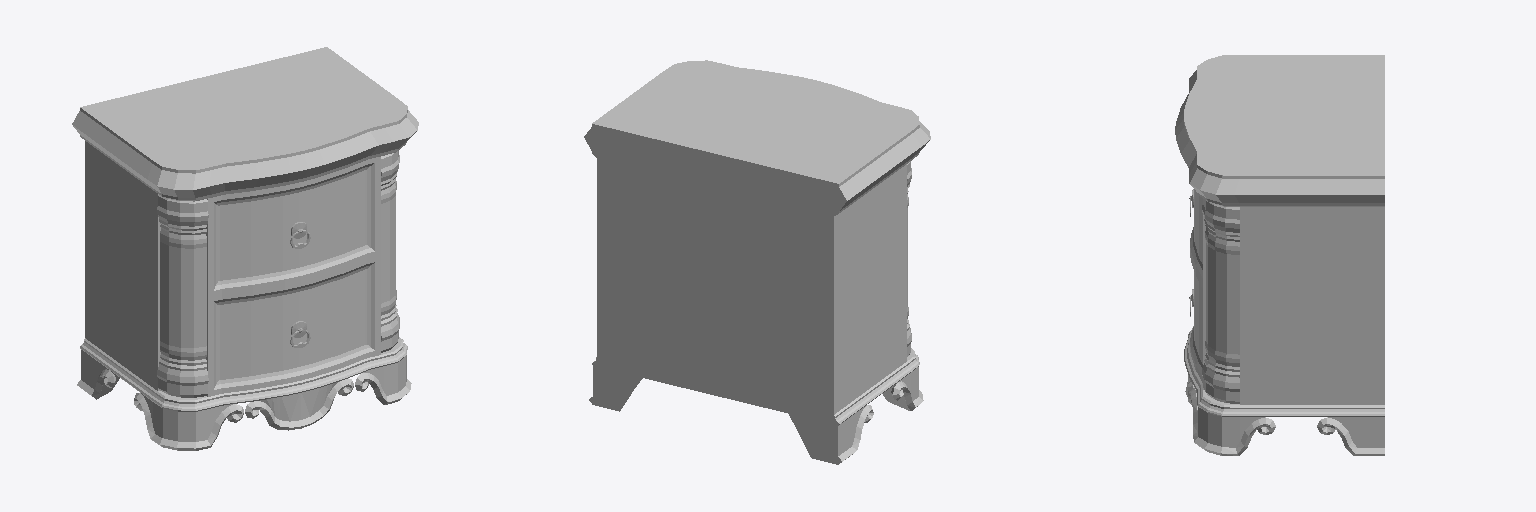
File: dresser.obj
3 views of the same model, side by side, from view 1: azimuth 30°, elevation 25°; view 2: azimuth 150°, elevation 25°; view 3: azimuth 270°, elevation 25° (orthographic).
Visible parts, largest first — view 1: Dresser_01_Cube.001; view 2: Dresser_01_Cube.001; view 3: Dresser_01_Cube.001.
Boxes of the visible parts, x1,y1,x2,y2 form: Dresser_01_Cube.001: [72, 47, 418, 450]; Dresser_01_Cube.001: [584, 60, 930, 464]; Dresser_01_Cube.001: [1175, 55, 1384, 455].
Bounding box in the file's own units: 1.5 × 1.53 × 1.04.